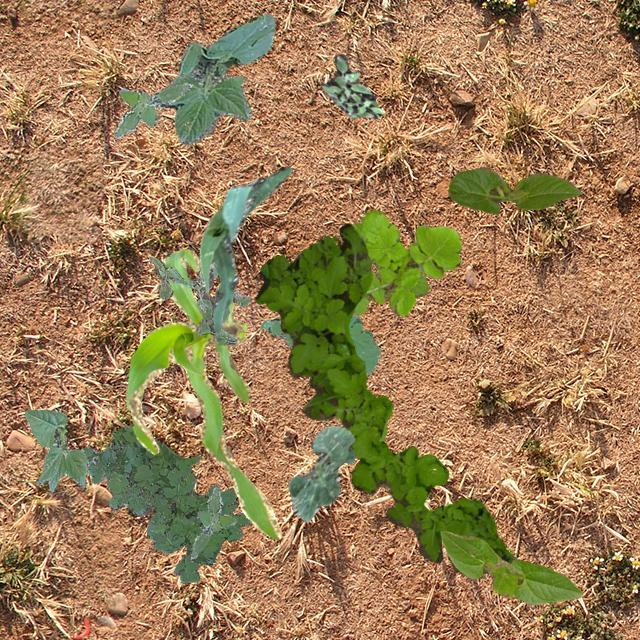crop: (126, 247, 280, 538), (198, 165, 290, 334), (158, 14, 276, 144), (440, 530, 580, 604), (287, 424, 353, 522), (446, 165, 580, 212), (352, 222, 428, 296), (23, 408, 88, 491)
weed: (255, 222, 514, 570), (80, 424, 252, 582), (352, 208, 461, 316), (149, 255, 249, 344), (260, 314, 380, 374), (112, 81, 192, 138), (320, 52, 384, 118), (190, 487, 236, 558)
